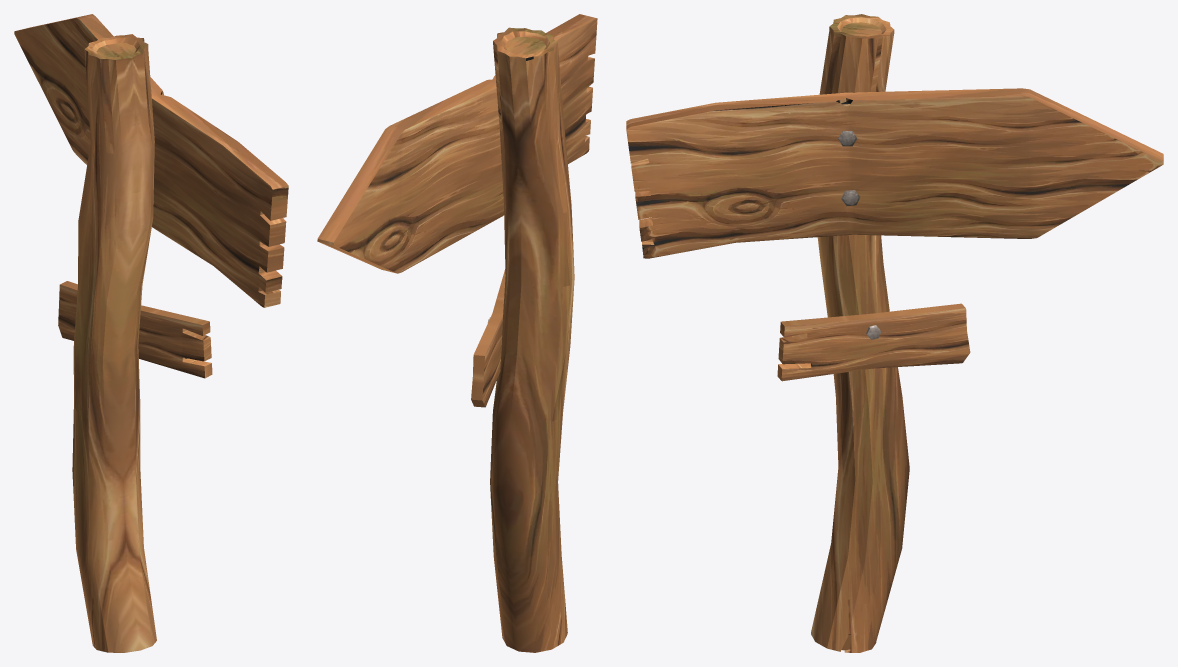
Rendered from hua-hin-sign.glb.
3 renders of one model, left to right at view 1: azimuth 30°, elevation 25°; view 2: azimuth 150°, elevation 25°; view 3: azimuth 270°, elevation 25°, orthographic. The views are drawn at different scales.
Visible parts, largest first — view 1: SignPost_0; view 2: SignPost_0; view 3: SignPost_0.
Part boxes in pixels (left/top/right/bottom): SignPost_0: left=14, top=14, right=288, bottom=652; SignPost_0: left=317, top=14, right=597, bottom=652; SignPost_0: left=626, top=14, right=1163, bottom=652.
Bounding box in the file's own units: 0.2368 × 1.35 × 1.06.
1 material, 1 textured.
